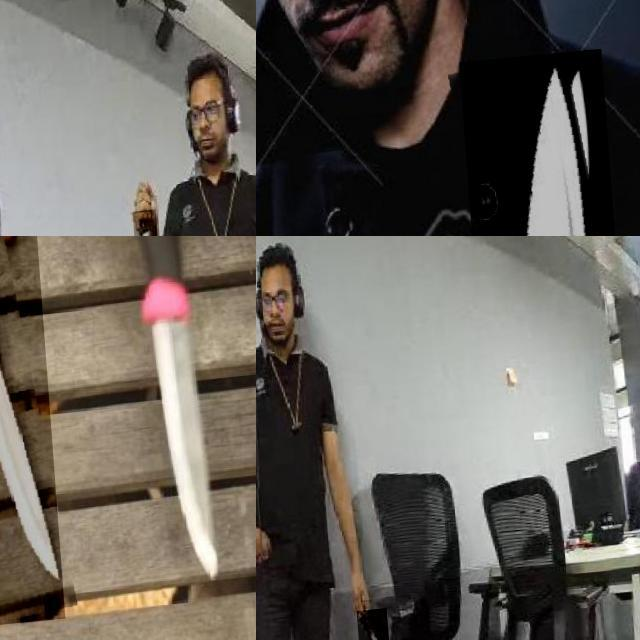-: (87, 236, 219, 613), (0, 236, 87, 634), (456, 59, 621, 236), (348, 614, 382, 640), (126, 216, 154, 236)
